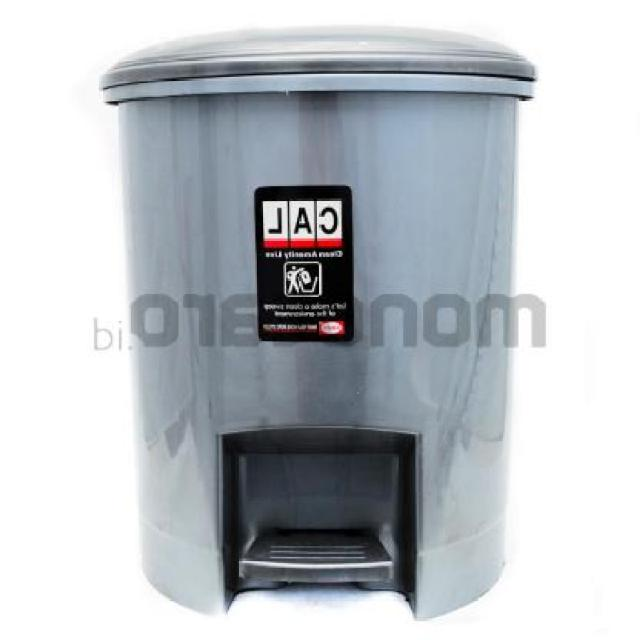garbage container: (87, 14, 562, 637)
